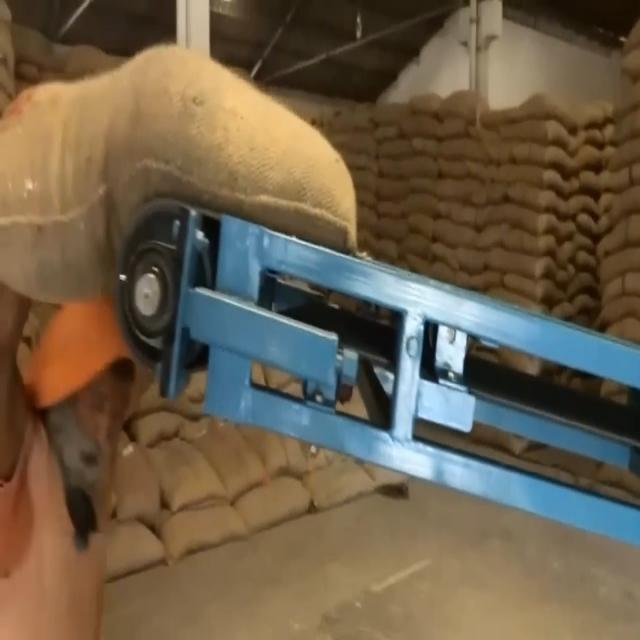gunny_bag: (0, 55, 365, 317), (136, 436, 228, 514), (190, 424, 272, 496), (166, 496, 244, 565), (237, 482, 317, 534), (504, 115, 576, 159), (502, 184, 569, 228), (511, 99, 582, 138), (498, 251, 569, 289), (509, 142, 573, 180), (502, 162, 568, 198), (430, 168, 486, 209), (435, 195, 486, 239), (440, 88, 497, 124), (434, 136, 494, 170), (498, 224, 562, 254), (430, 218, 478, 256), (599, 243, 640, 287), (603, 288, 640, 332), (604, 137, 640, 174), (604, 182, 640, 218), (333, 124, 380, 150), (374, 138, 420, 162), (610, 82, 639, 119), (402, 117, 444, 142), (412, 90, 448, 119), (396, 193, 442, 215), (374, 175, 418, 198), (374, 104, 416, 126)
